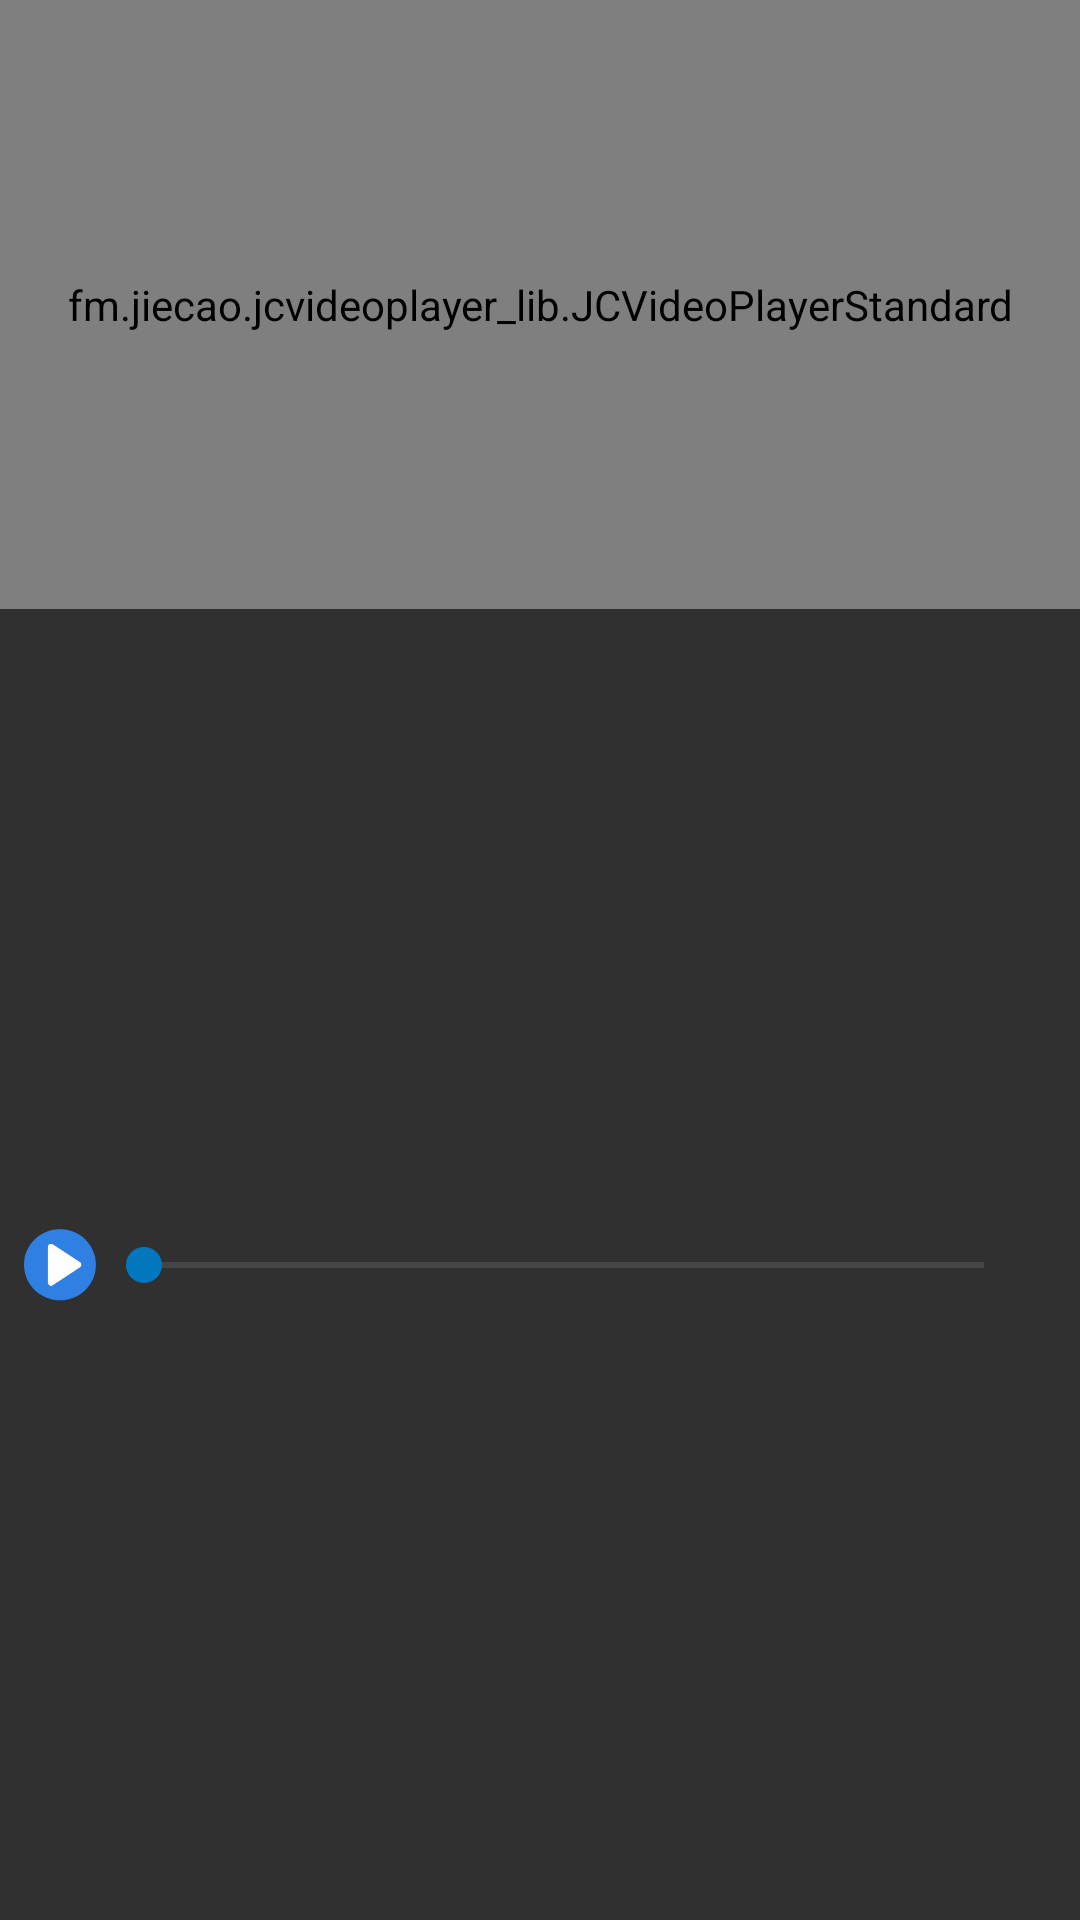

Icon click points for this 1080 x 1920 phone screenshot, format (x=x, y=y):
lapp play: (x=60, y=1265)
